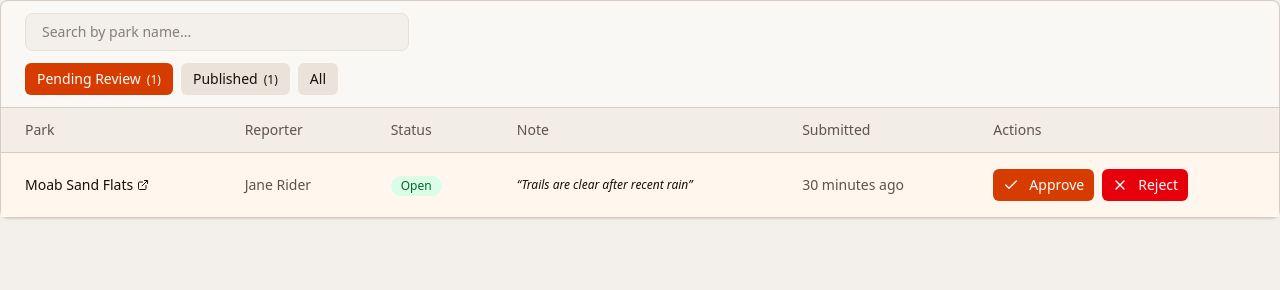
Test: ConditionModerationTable › filters to show all conditions when All is clicked
Click the button "All".
click(318, 79)  # box [298,63,338,95]
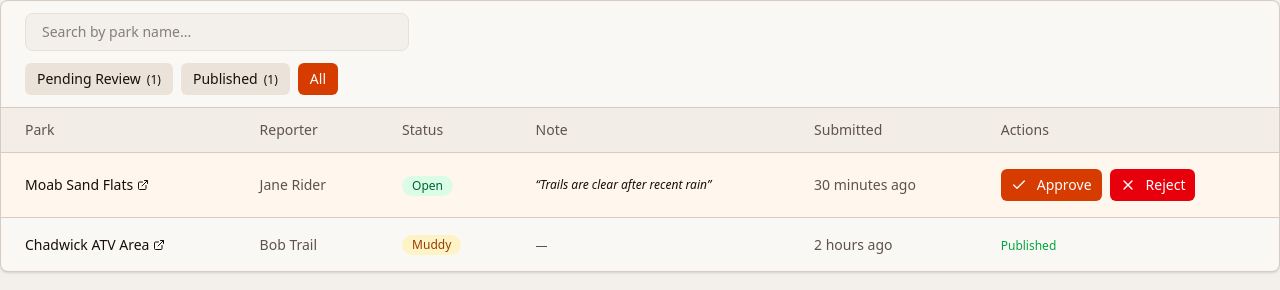
Expected: the link "Moab Sand Flats" is shown, [25,175,149,194]
Result: the link "Chadwick ATV Area" is shown at [25,234,165,254]
